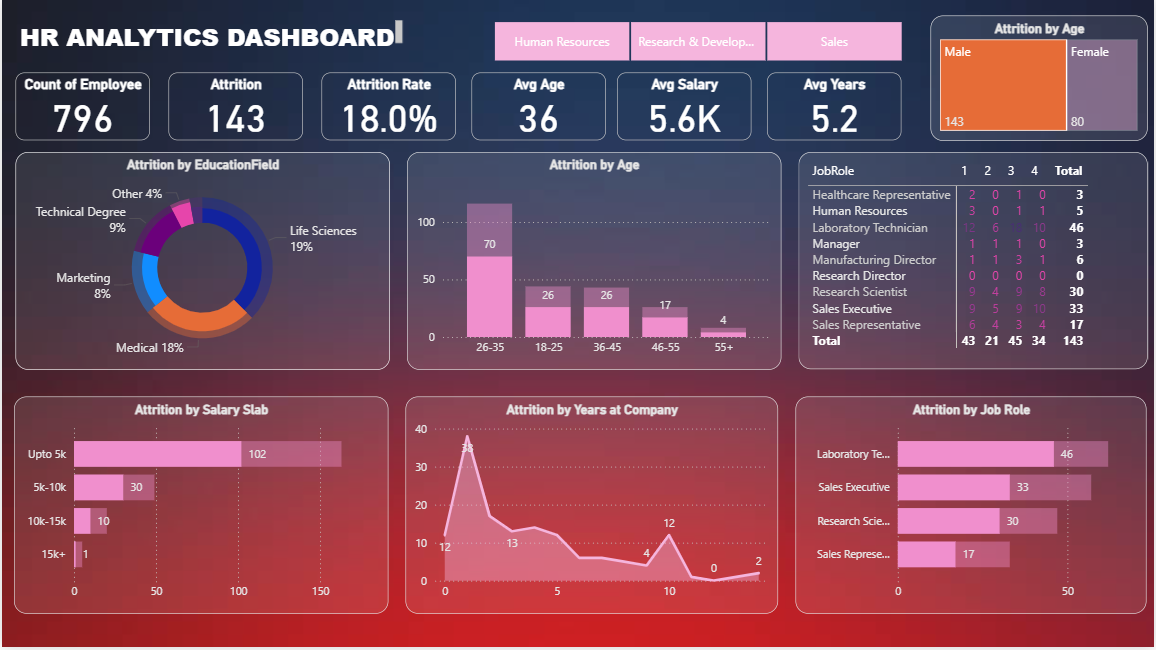

The dashboard page shown, as its layout file describes it:
{"tool":"powerbi","page":{"name":"Page 1","canvas":[1280,720],"ordinal":0},"visuals":[{"type":"card","title":"Count of Employee","fields":{"Values":["CountNonNull(HR_Analytics.EmpID)"]},"box":[15.1,81.3,149.3,75.6],"z":0},{"type":"card","title":"Attrition","fields":{"Values":["Sum(HR_Analytics.AttritionCount)"]},"box":[185.2,81.3,149.3,75.6],"z":1000},{"type":"card","title":"Attrition Rate","fields":{"Values":["HR_Analytics.AttritionRate"]},"box":[355.3,81.3,149.3,75.6],"z":2000},{"type":"card","title":"Avg Age","fields":{"Values":["Avg(HR_Analytics.Age)"]},"box":[521.6,81.3,149.3,75.6],"z":3000},{"type":"card","title":"Avg Salary","fields":{"Values":["Avg(HR_Analytics.MonthlyIncome)"]},"box":[684.1,81.3,149.3,75.6],"z":4000},{"type":"card","title":"Avg Years","fields":{"Values":["Avg(HR_Analytics.YearsAtCompany)"]},"box":[850.4,81.3,149.3,75.6],"z":5000},{"type":"donutChart","title":"Attrition by EducationField","fields":{"Category":["HR_Analytics.EducationField"],"Y":["Sum(HR_Analytics.AttritionCount)"]},"box":[15.1,170.1,415.8,241.9],"z":6000},{"type":"columnChart","title":"Attrition by Age","fields":{"Category":["HR_Analytics.AgeGroup"],"Y":["Sum(HR_Analytics.AttritionCount)"]},"box":[449.8,170.1,415.8,241.9],"z":7000},{"type":"pivotTable","fields":{"Rows":["HR_Analytics.JobRole"],"Columns":["HR_Analytics.JobSatisfaction"],"Values":["Sum(HR_Analytics.AttritionCount)"]},"box":[884.3,170.6,388.2,241.2],"z":8000},{"type":"barChart","title":"Attrition by Salary Slab","fields":{"Category":["HR_Analytics.SalarySlab"],"Y":["Sum(HR_Analytics.AttritionCount)"]},"box":[13.7,441.2,415.7,241.2],"z":9000},{"type":"barChart","title":"Attrition by Job Role","fields":{"Category":["HR_Analytics.JobRole"],"Y":["Sum(HR_Analytics.AttritionCount)"]},"box":[882.4,441.2,390.2,241.2],"z":10000},{"type":"areaChart","title":"Attrition by Years at Company","fields":{"Category":["HR_Analytics.YearsAtCompany"],"Y":["Sum(HR_Analytics.AttritionCount)"]},"box":[449,441.2,413.7,241],"z":11000},{"type":"treemap","title":"Attrition by Age","fields":{"Group":["HR_Analytics.Gender"],"Values":["Sum(HR_Analytics.AttritionCount)"]},"box":[1031.4,17.6,241.2,139.2],"z":12000},{"type":"slicer","fields":{"Values":["HR_Analytics.Department"]},"box":[521.9,17.5,501.9,56.9],"z":13000},{"type":"textbox","box":[15,17.5,435,47.5],"z":14000}]}

Visuals, with their boxes in screenshot pixels (x1, y1, x2, y2), scaled from the page's 1280x720 canvas onto the 1156x650 screenshot:
"Count of Employee" card: left=14, top=73, right=148, bottom=142
"Attrition" card: left=167, top=73, right=302, bottom=142
"Attrition Rate" card: left=321, top=73, right=456, bottom=142
"Avg Age" card: left=471, top=73, right=606, bottom=142
"Avg Salary" card: left=618, top=73, right=753, bottom=142
"Avg Years" card: left=768, top=73, right=903, bottom=142
"Attrition by EducationField" donutChart: left=14, top=154, right=389, bottom=372
"Attrition by Age" columnChart: left=406, top=154, right=782, bottom=372
pivotTable - HR_Analytics.JobRole x HR_Analytics.JobSatisfaction: left=799, top=154, right=1149, bottom=372
"Attrition by Salary Slab" barChart: left=12, top=398, right=388, bottom=616
"Attrition by Job Role" barChart: left=797, top=398, right=1149, bottom=616
"Attrition by Years at Company" areaChart: left=406, top=398, right=779, bottom=616
"Attrition by Age" treemap: left=931, top=16, right=1149, bottom=142
slicer - HR_Analytics.Department: left=471, top=16, right=925, bottom=67
textbox: left=14, top=16, right=406, bottom=59
